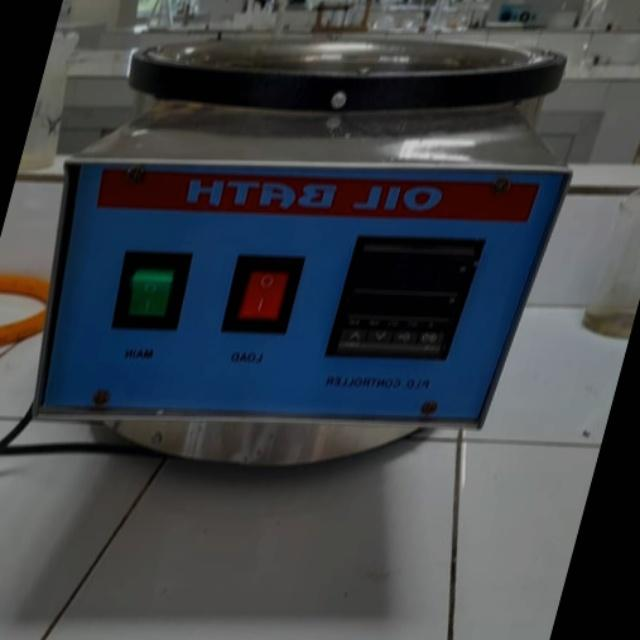Water-Oil Bath: (0, 16, 626, 470)
